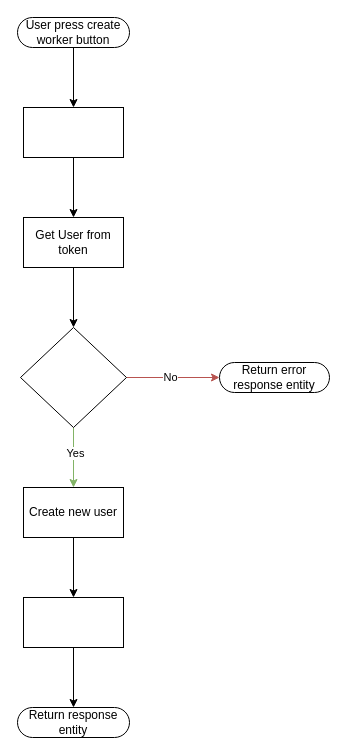
Some shapes in this 347 by 755 pixel diagram are drawn without their labels. The shapes that lost their labels are listed below. From the top down, each one's centre as x and y in pixels, then its label:
At point 73,132: "Get Authorization token from header".
At point 73,377: "User is authorized to create new user?".
At point 73,622: "Add user to DB".
